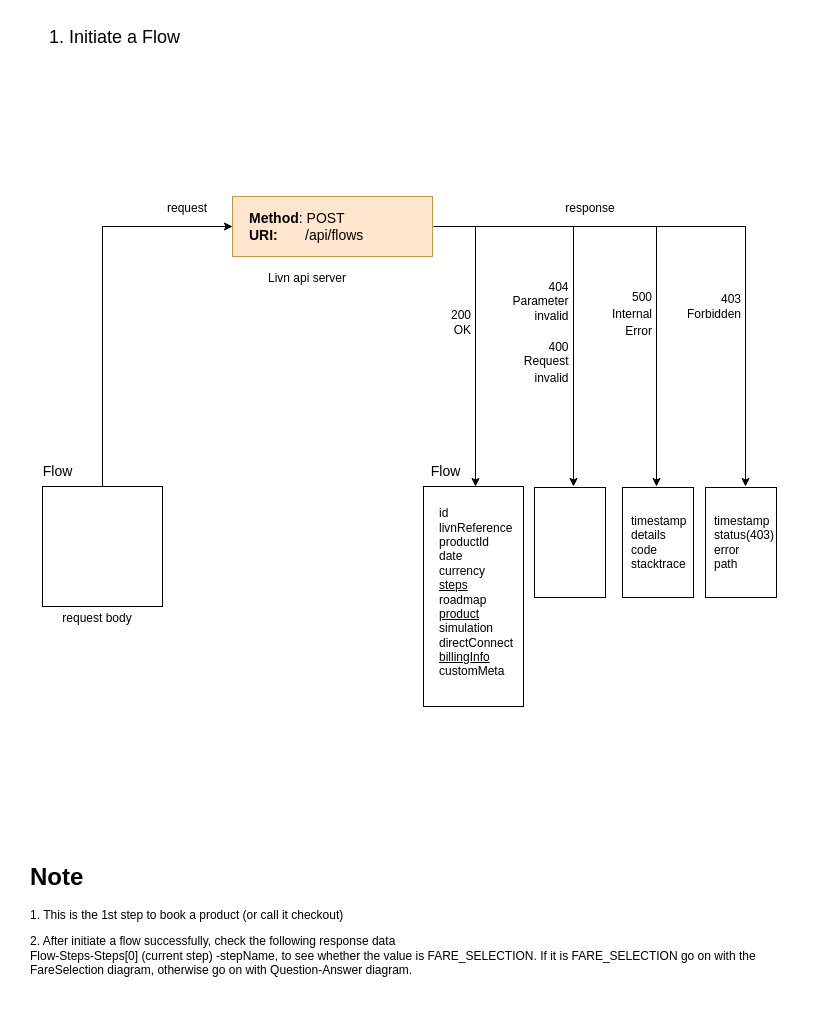
Some shapes in this 829 by 1024 pixel diagram are drawn without their labels. Here are the shapes that lost their labels. From the top down, the centre of each, then its label:
the point at 102,546: date * productId * currency
the point at 570,542: timestamp message details code stacktrace
